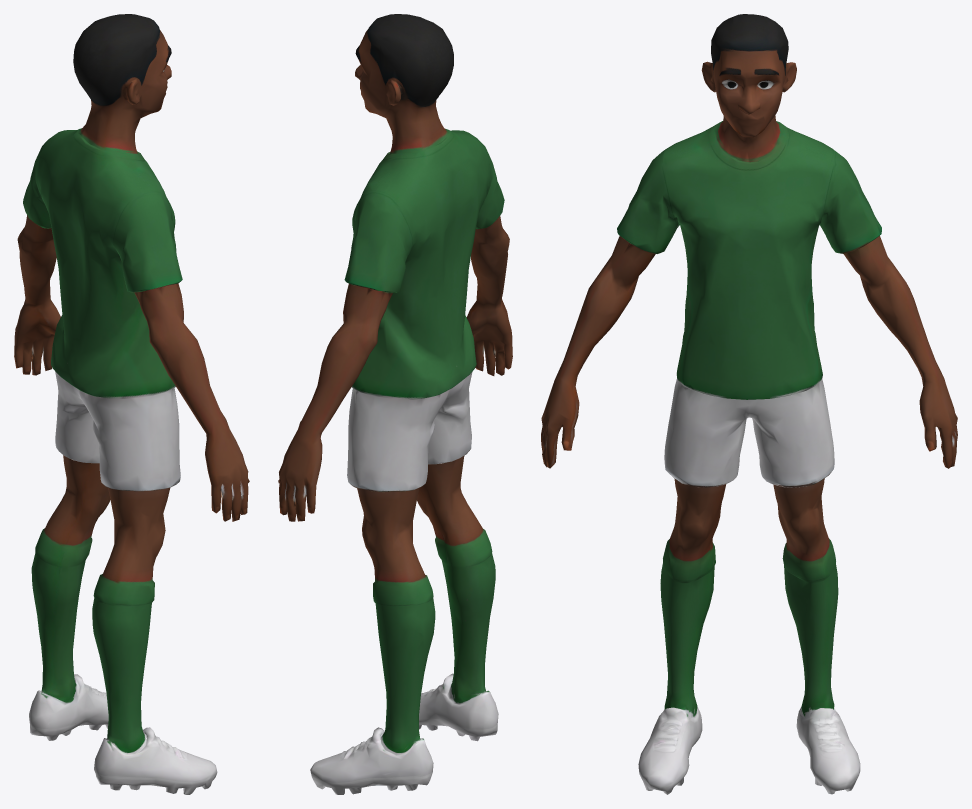
File: gen.glb
3 renders of one model, left to right at view 1: azimuth 30°, elevation 25°; view 2: azimuth 150°, elevation 25°; view 3: azimuth 270°, elevation 25°, orthographic.
Parts seen in each view (by area): view 1: tripo_node_6bba6b73-1746-498c-9e37-bc124bc88650; view 2: tripo_node_6bba6b73-1746-498c-9e37-bc124bc88650; view 3: tripo_node_6bba6b73-1746-498c-9e37-bc124bc88650.
Part boxes in pixels (x1=…): tripo_node_6bba6b73-1746-498c-9e37-bc124bc88650: x1=14, y1=14, x2=249, y2=794; tripo_node_6bba6b73-1746-498c-9e37-bc124bc88650: x1=278, y1=14, x2=512, y2=794; tripo_node_6bba6b73-1746-498c-9e37-bc124bc88650: x1=541, y1=14, x2=957, y2=794.
Bounding box in the file's own units: 0.1535 × 1 × 0.501.
Materials: 1 (1 with a texture image).
